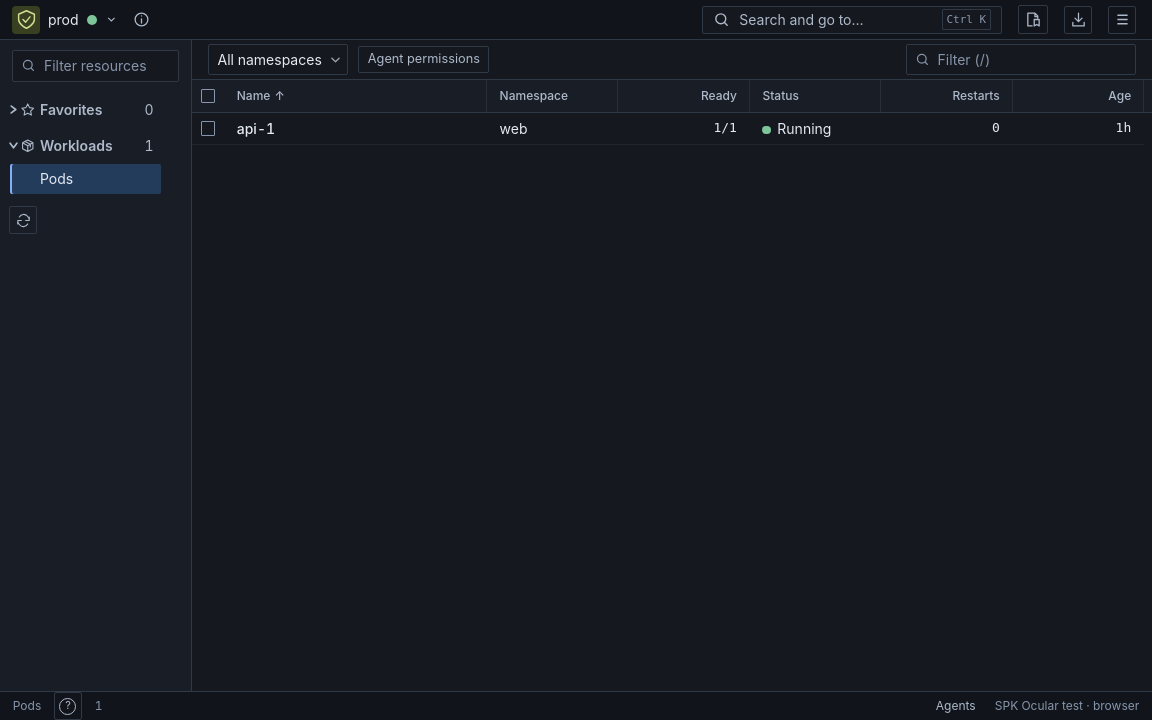
Scenario: tunnels › forwards a port from the details; a taken local port is shown in the dialog
Click the text "api-1". click: coordinates (256, 128)
box: [237,120,275,137]
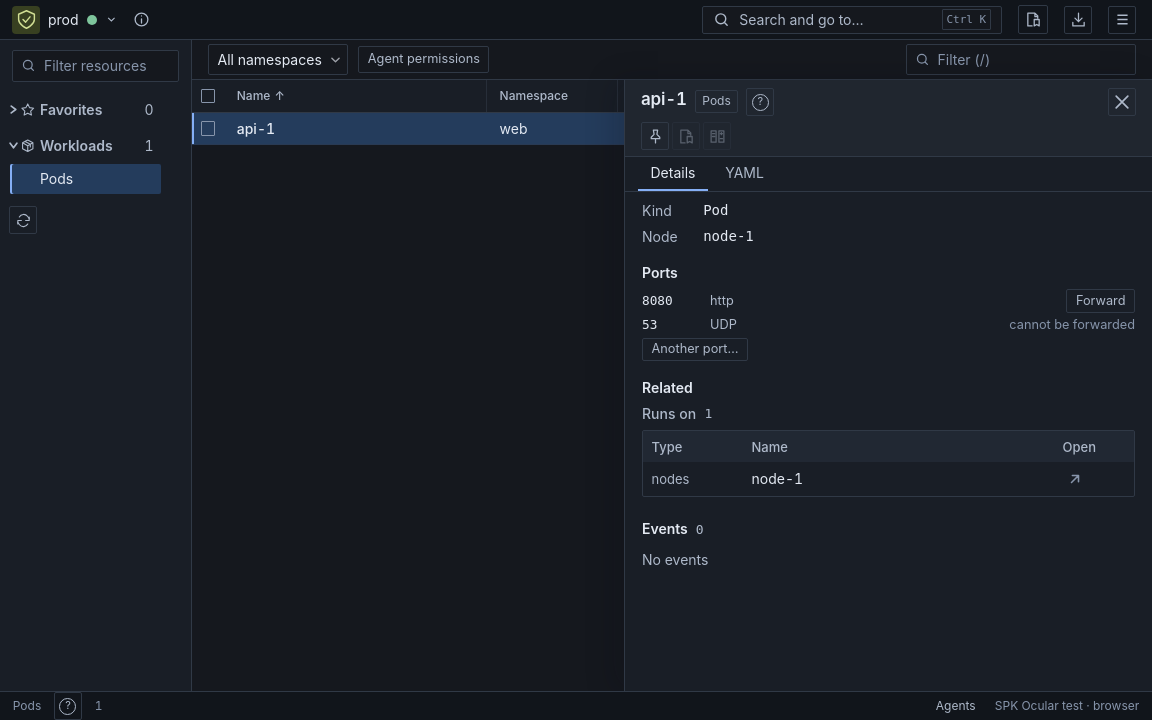
Press Enter
Expected: the text "8080" is shown, [642,292,673,308]
Click the button "Forward". click: coordinates (1101, 301)
box: [1066,289,1135,313]
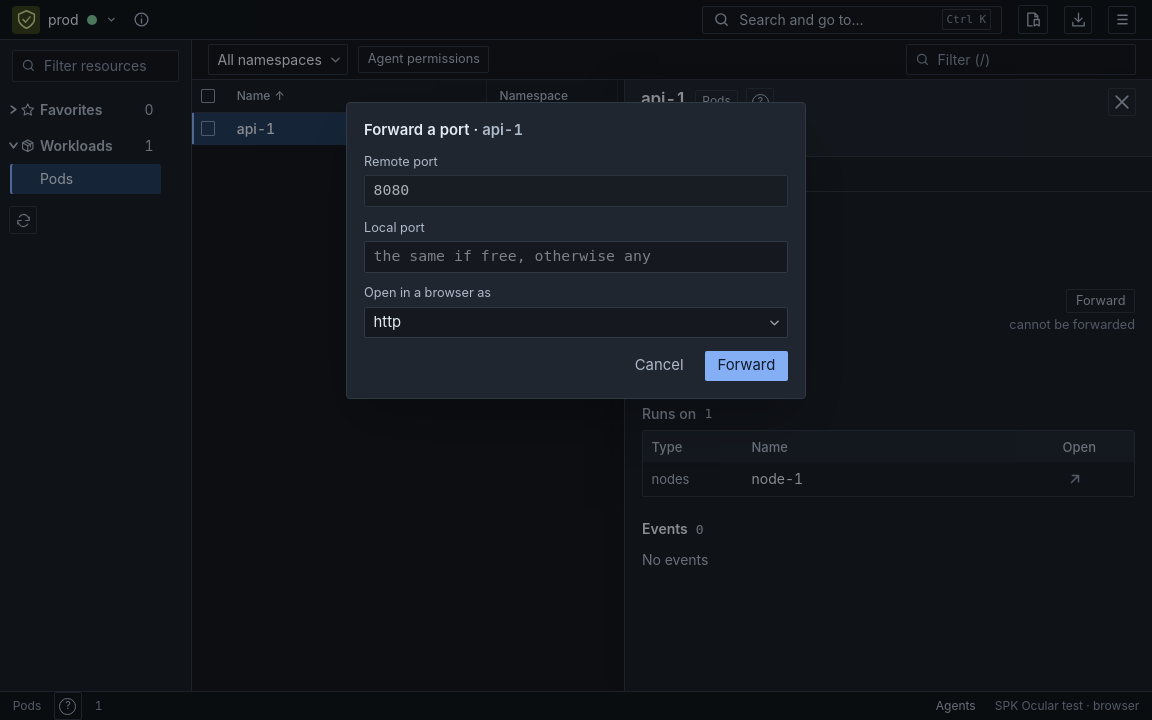
Expected: the button with aria-label "Open in a browser as" reads "http", [364,307,788,338]
Type "8080" into the field labelled "Local port". click: coordinates (576, 257)
box: [364,241,788,273]
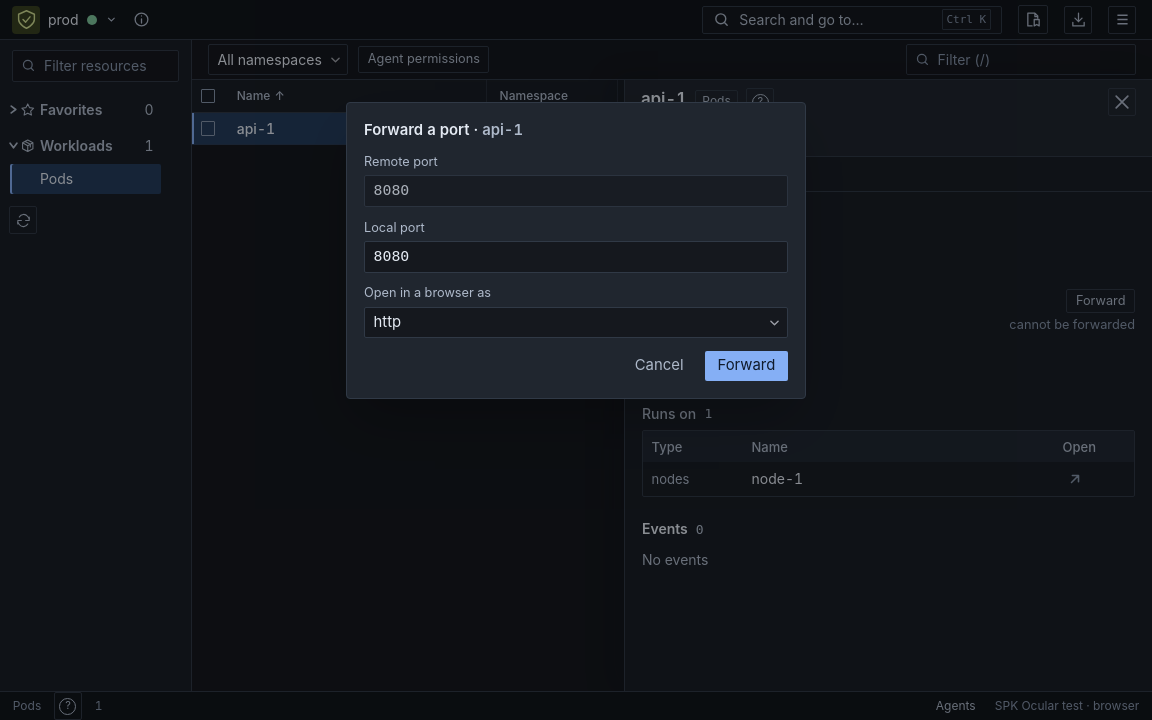
Click the button "Forward". click: coordinates (746, 366)
box: [705,351,788,381]
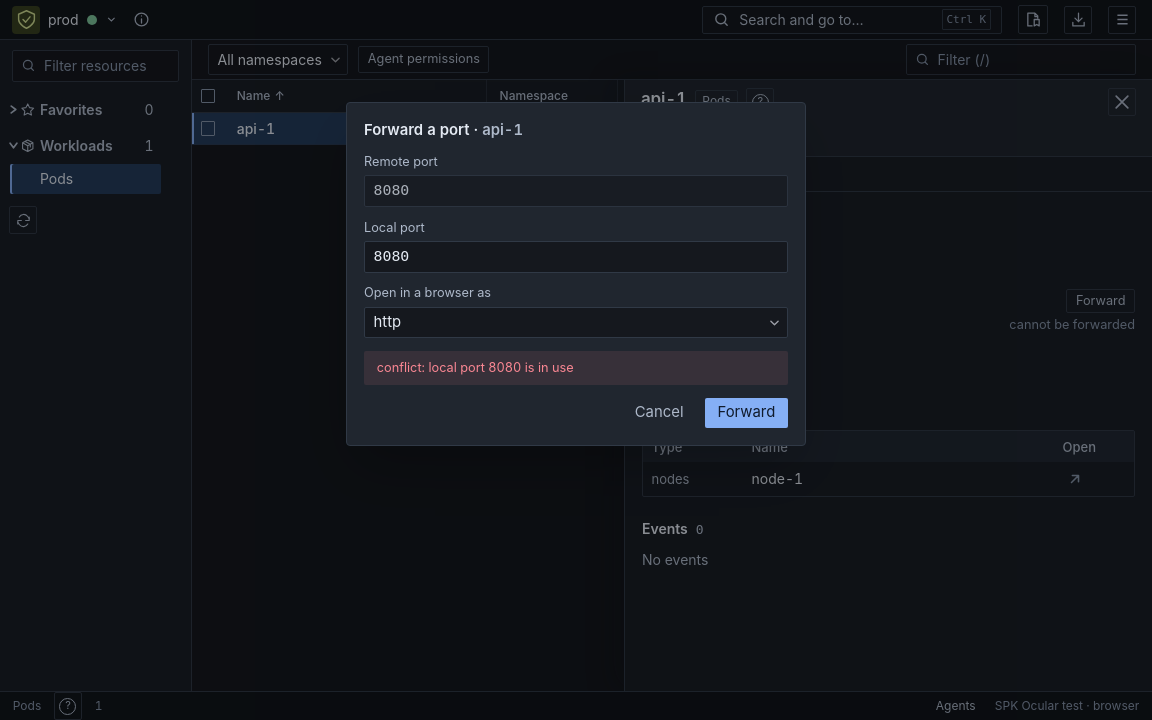
Expected: the message shows "local port 8080 is in use", [377,360,574,375]
Clear the field labelled "Local port". click: coordinates (576, 257)
box: [364,241,788,273]
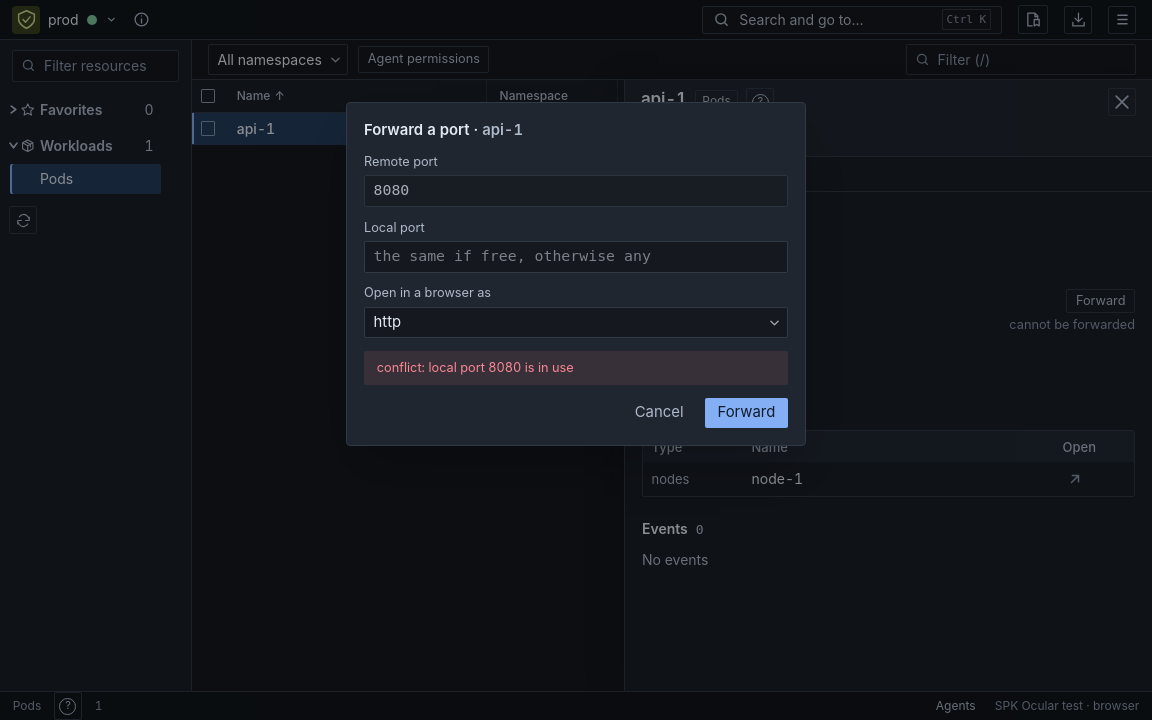
Click the button "Forward". click: coordinates (746, 413)
box: [705,398,788,428]
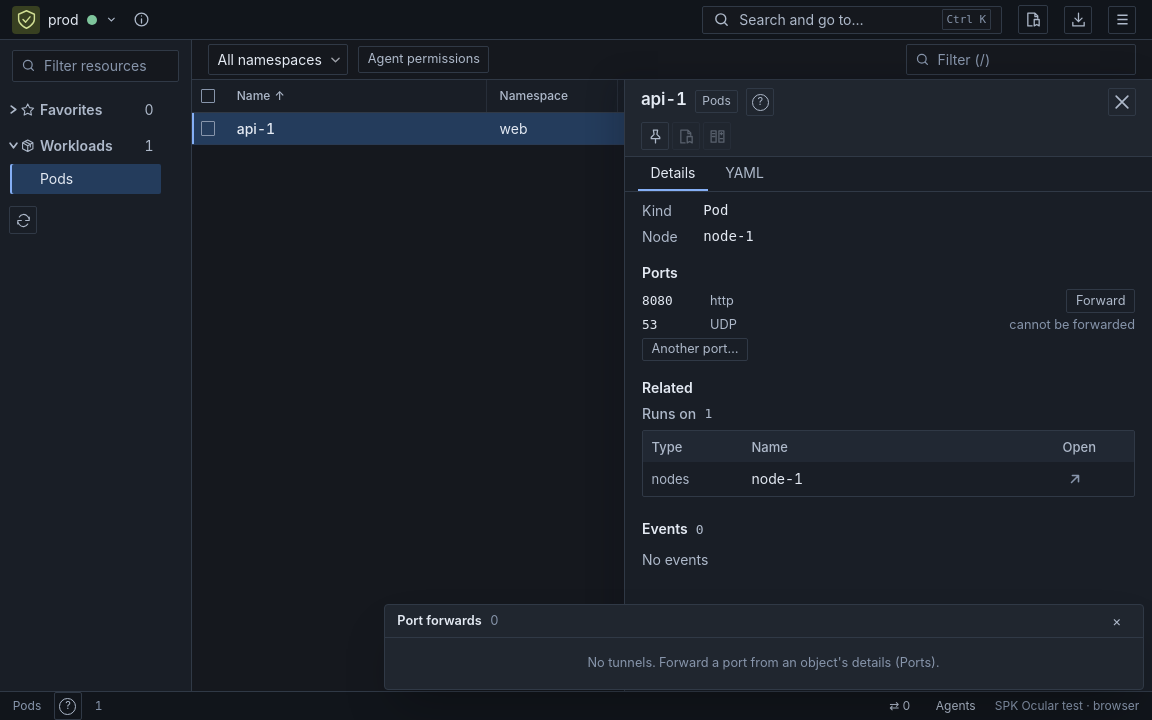
Expected: the element "Port forwards" is shown, [384,604,1144,690]
